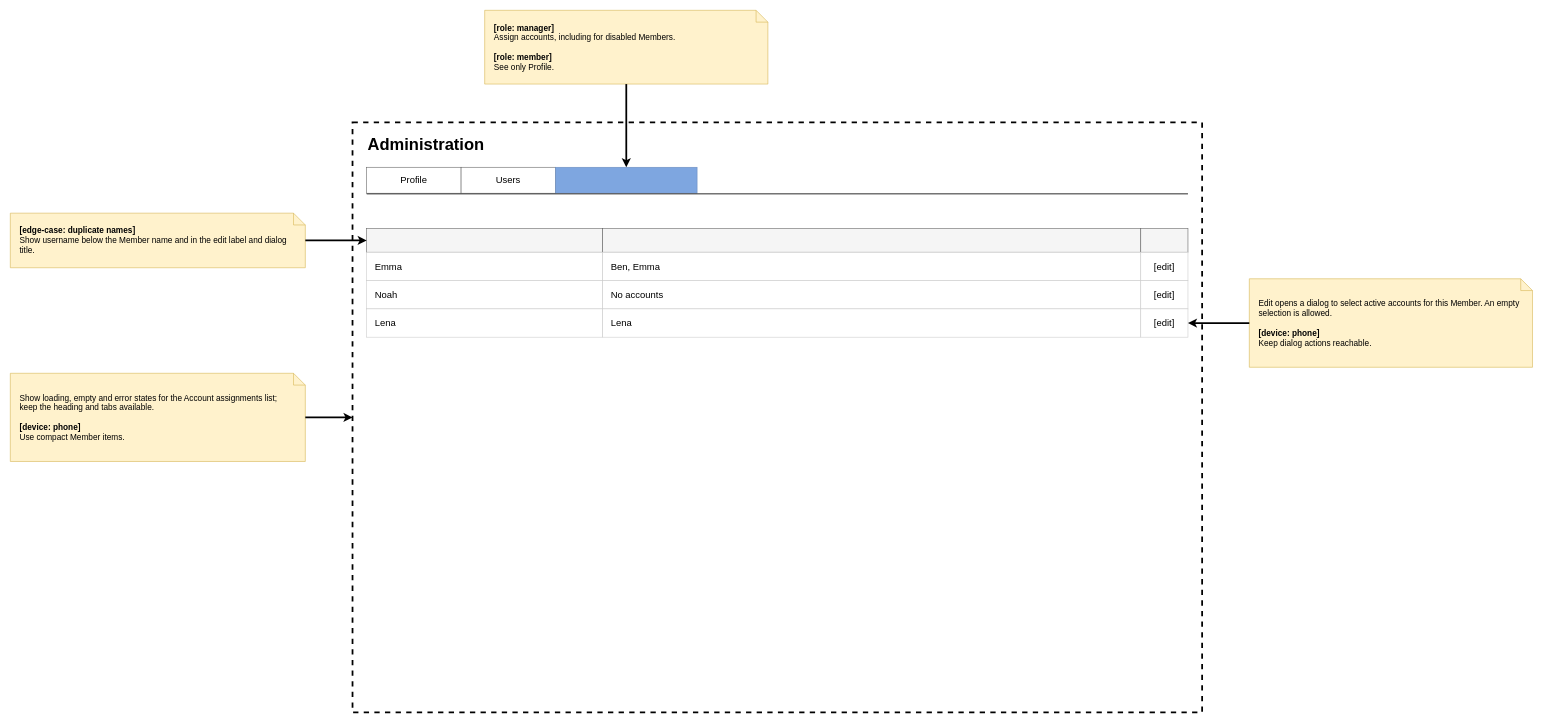
This 1543x723 diagram has some shape labels left out. Each missing label, with the centre of its shape:
Account assignments: point (626, 180)
Actions: point (1164, 240)
Assigned accounts: point (871, 240)
Display name: point (484, 240)
